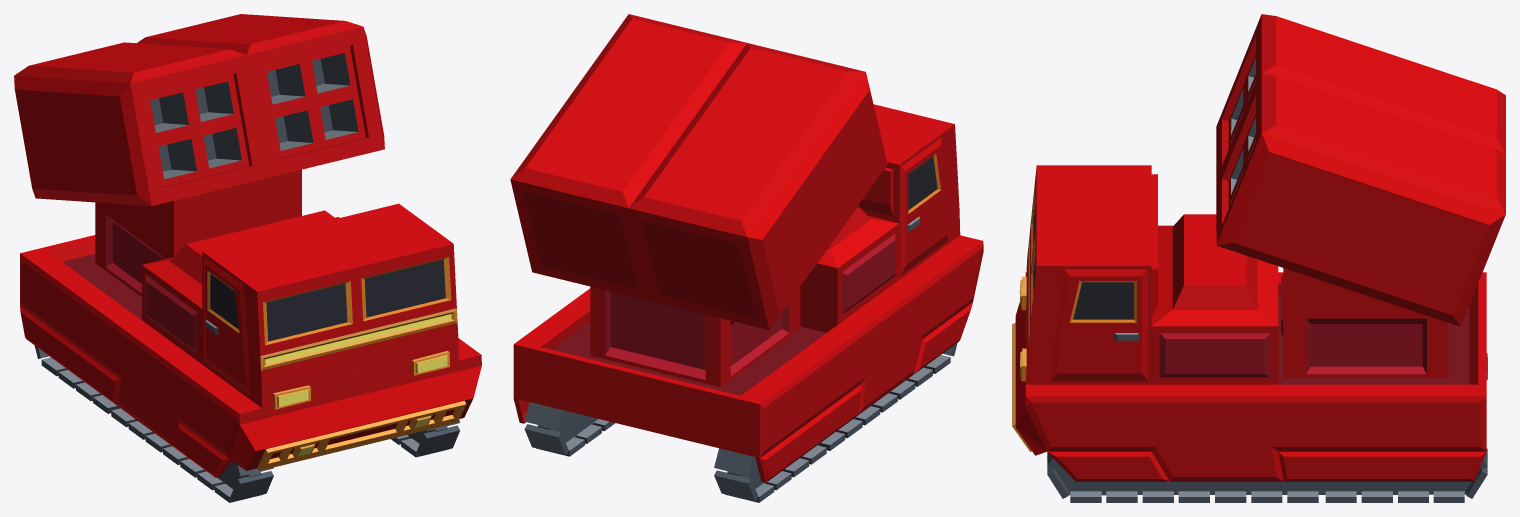
The model's file is Missle_Vehicles_Red.fbx.
3 renders of one model, left to right at view 1: azimuth 30°, elevation 25°; view 2: azimuth 150°, elevation 25°; view 3: azimuth 270°, elevation 25°, orthographic. The views are drawn at different scales.
Parts seen in each view (by area): view 1: Missle_Vehicles_Red, Missle, Tie8, Tie; view 2: Missle, Missle_Vehicles_Red, Tie8, Tie; view 3: Missle_Vehicles_Red, Missle, Tie.
Boxes of the visible parts, x1,y1,x2,y2 form: Missle_Vehicles_Red: [20, 169, 481, 477]; Missle: [14, 14, 384, 206]; Tie8: [34, 345, 273, 502]; Tie: [391, 419, 460, 457]; Missle: [510, 14, 887, 329]; Missle_Vehicles_Red: [513, 104, 983, 482]; Tie8: [714, 343, 957, 502]; Tie: [524, 402, 615, 456]; Missle_Vehicles_Red: [1012, 165, 1486, 481]; Missle: [1216, 14, 1505, 326]; Tie: [1047, 448, 1487, 502].
Bounding box in the file's own units: 162 × 223 × 266.
